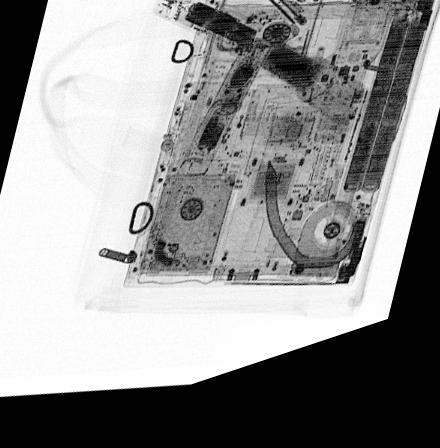Baton: (151, 0, 368, 152), (178, 53, 272, 192)
